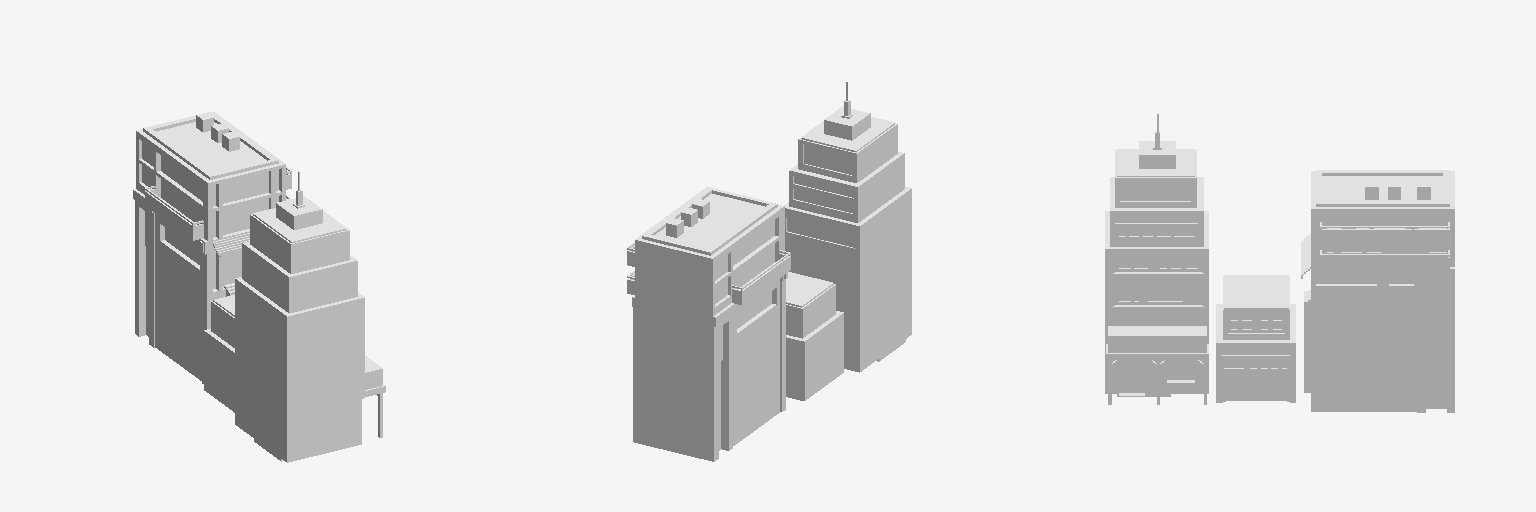
File: SideBuildings3-2.obj
3 views of the same model, side by side, from view 1: azimuth 30°, elevation 25°; view 2: azimuth 150°, elevation 25°; view 3: azimuth 270°, elevation 25° (orthographic).
Parts seen in each view (by area): view 1: object 1; view 2: object 1; view 3: object 1.
Part boxes in pixels (left/top/right/bottom): object 1: left=133, top=111, right=385, bottom=462; object 1: left=627, top=82, right=911, bottom=461; object 1: left=1105, top=113, right=1454, bottom=412.
Bounding box in the file's own units: 7.5 × 17 × 20.2.